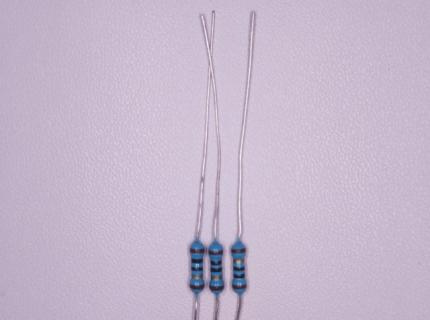Black band: (191, 258, 203, 263), (211, 260, 222, 265), (192, 267, 203, 271), (211, 268, 222, 272), (234, 267, 245, 271), (234, 274, 245, 278)
Brown band: (232, 284, 246, 289), (210, 286, 224, 291), (209, 250, 223, 255), (190, 248, 204, 253), (190, 285, 204, 290), (231, 249, 246, 253)
Gold band: (211, 275, 223, 280), (192, 275, 203, 279), (234, 259, 244, 263)
